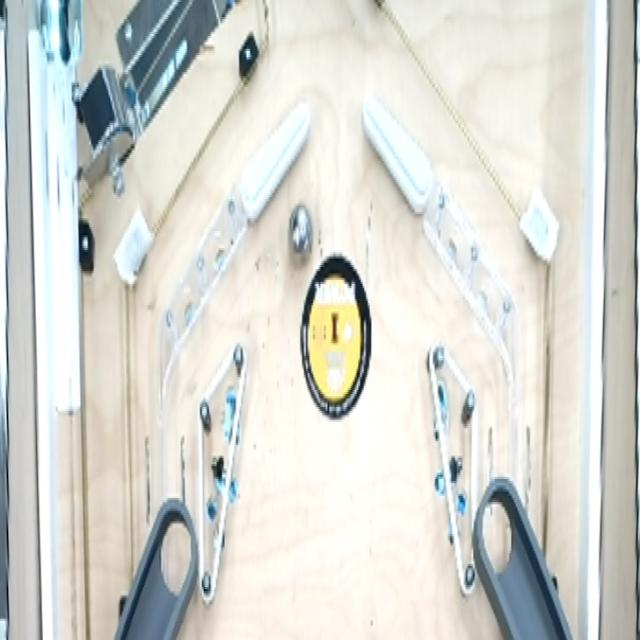ball: (285, 197, 316, 270)
flipper-left: (359, 84, 436, 218)
flipper-right: (237, 91, 314, 230)
